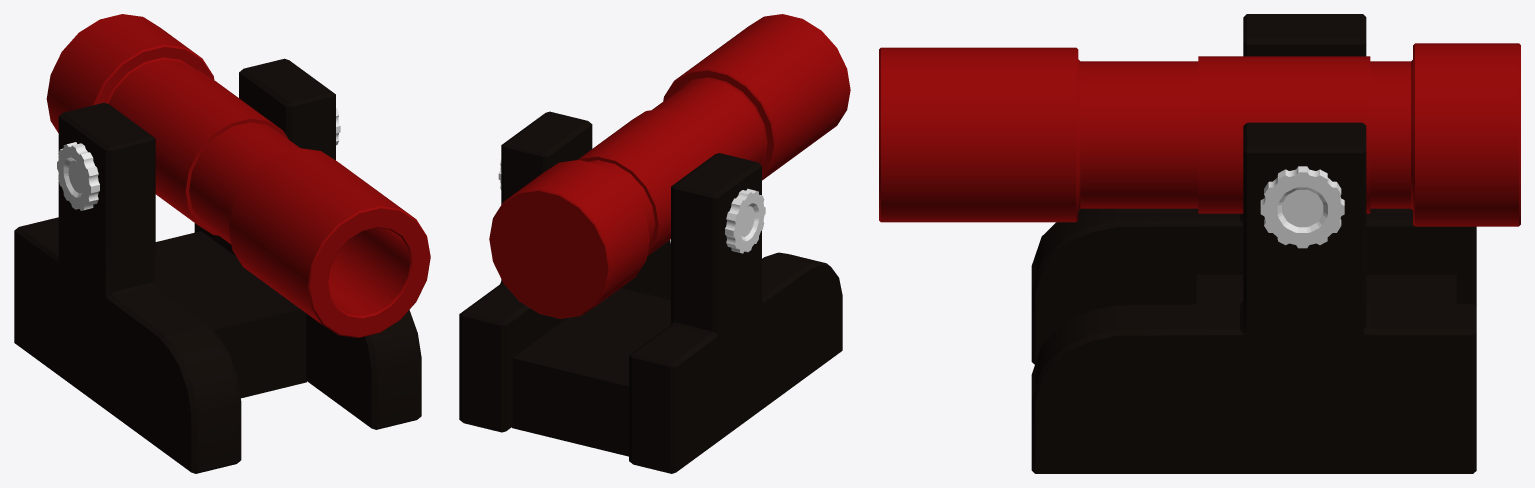
The model's file is Turret_BIG (2).FBX.
3 views of the same model, side by side, from view 1: azimuth 30°, elevation 25°; view 2: azimuth 150°, elevation 25°; view 3: azimuth 270°, elevation 25° (orthographic). The views are drawn at different scales.
Visible parts, largest first — view 1: Stand, Canon, Cylinder006; view 2: Stand, Canon, Cylinder006; view 3: Stand, Canon, Gears.
Boxes of the visible parts, box(x1,y1,x2,y2) form: Stand: box(14, 58, 421, 473); Canon: box(46, 14, 430, 337); Cylinder006: box(57, 142, 99, 210); Stand: box(459, 111, 842, 473); Canon: box(489, 14, 850, 318); Cylinder006: box(725, 188, 765, 253); Stand: box(1031, 14, 1476, 473); Canon: box(879, 43, 1520, 226); Gears: box(1260, 166, 1344, 248).
Bounding box in the file's own units: 108 × 118 × 194.
